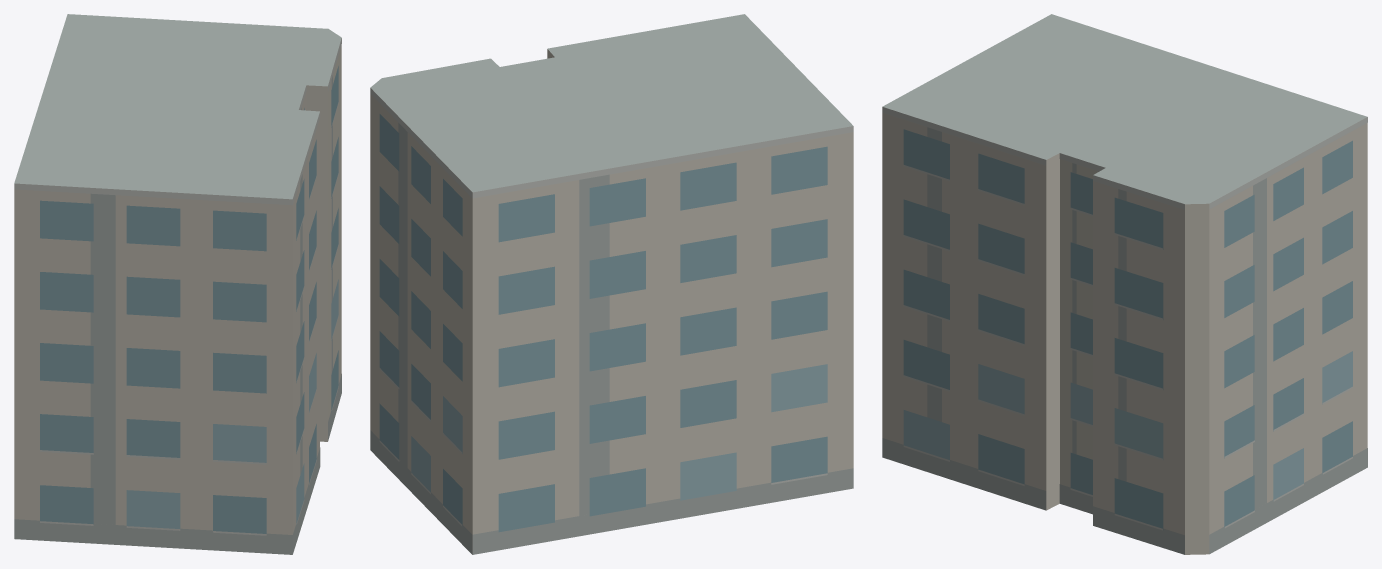
Rendered from survey-upis-32574602.glb.
3 renders of one model, left to right at view 1: azimuth 30°, elevation 25°; view 2: azimuth 150°, elevation 25°; view 3: azimuth 270°, elevation 25°, orthographic. The views are drawn at different scales.
Visible parts, largest first — view 1: survey-upis-32574602.tmp; view 2: survey-upis-32574602.tmp; view 3: survey-upis-32574602.tmp.
Boxes of the visible parts, x1,y1,x2,y2 form: survey-upis-32574602.tmp: (14,14,341,554); survey-upis-32574602.tmp: (370,14,853,554); survey-upis-32574602.tmp: (882,14,1367,554).
Bounding box in the file's own units: 17 × 14.6 × 18.33.
